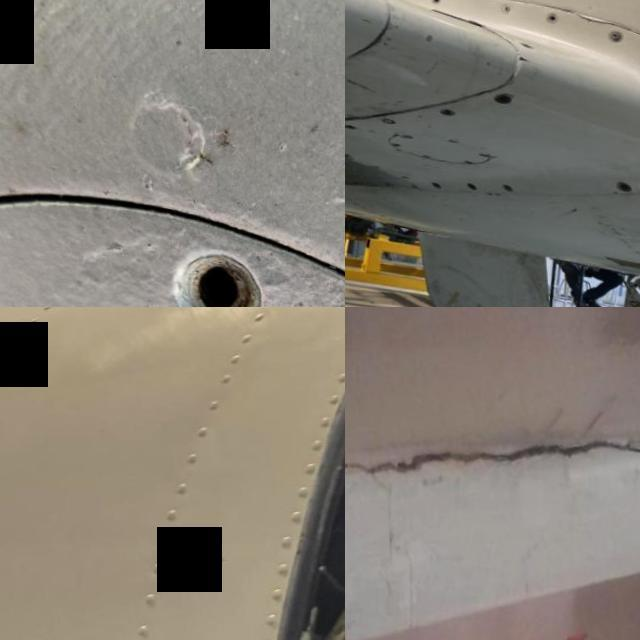Crack: (345, 431, 640, 481), (566, 4, 631, 24), (507, 44, 538, 62), (455, 13, 490, 25)
Missing_Fastener: (123, 203, 291, 307), (486, 88, 511, 102), (607, 174, 627, 190), (542, 8, 559, 22), (434, 104, 454, 115), (422, 177, 439, 189), (460, 177, 475, 190), (345, 120, 354, 129)
